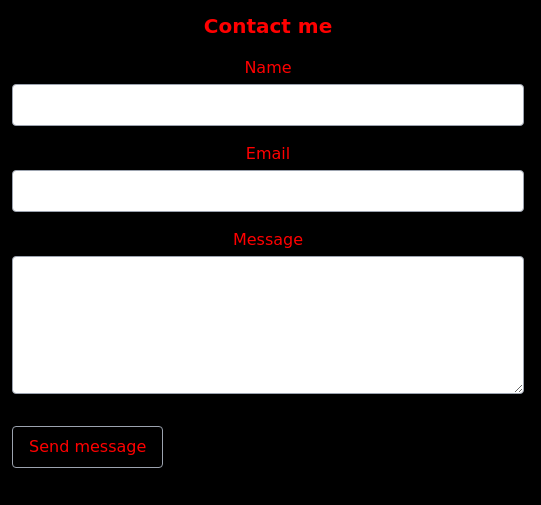
Contact me › retains the message when the server rejects the request
Type "Visitor" into the field labelled "Name" at {"x": 268, "y": 105}, box [12,84,524,126]
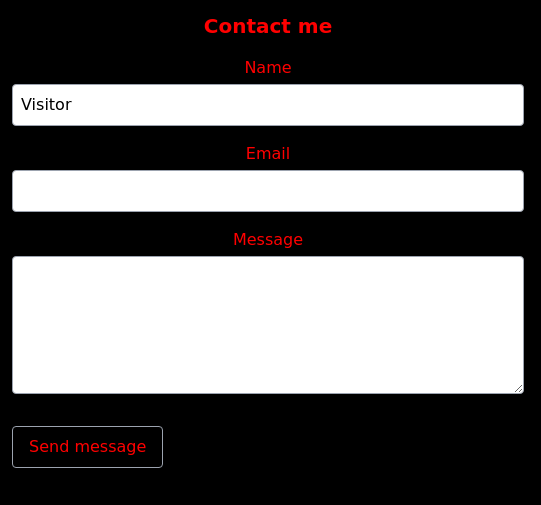
Type "visitor@example.com" into the field labelled "Email" at {"x": 268, "y": 191}, box [12,170,524,212]
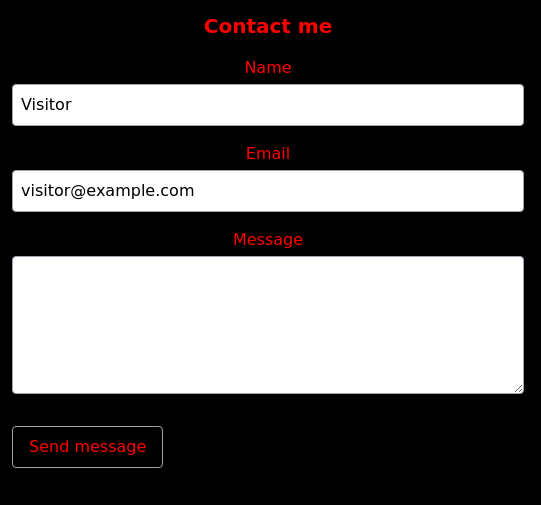
Type "Hello!" into the text box labelled "Message" at {"x": 268, "y": 325}, box [12,256,524,394]
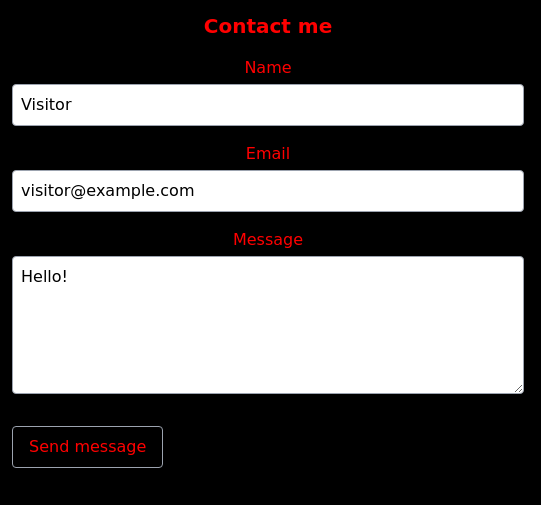
Submit the form "Contact me"
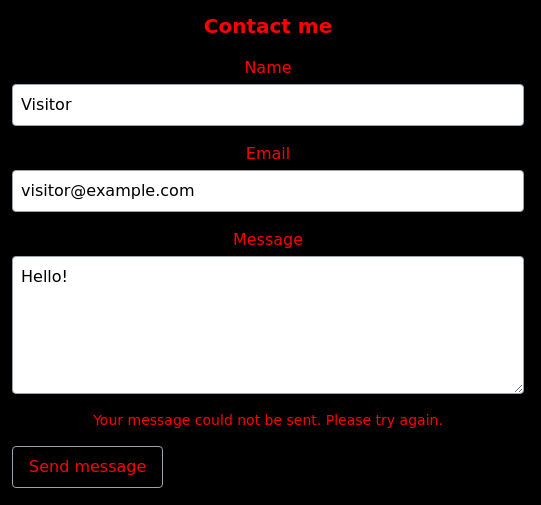
Result: the text "Your message could not be sent. Please try again." is shown at [93,412,443,428]
